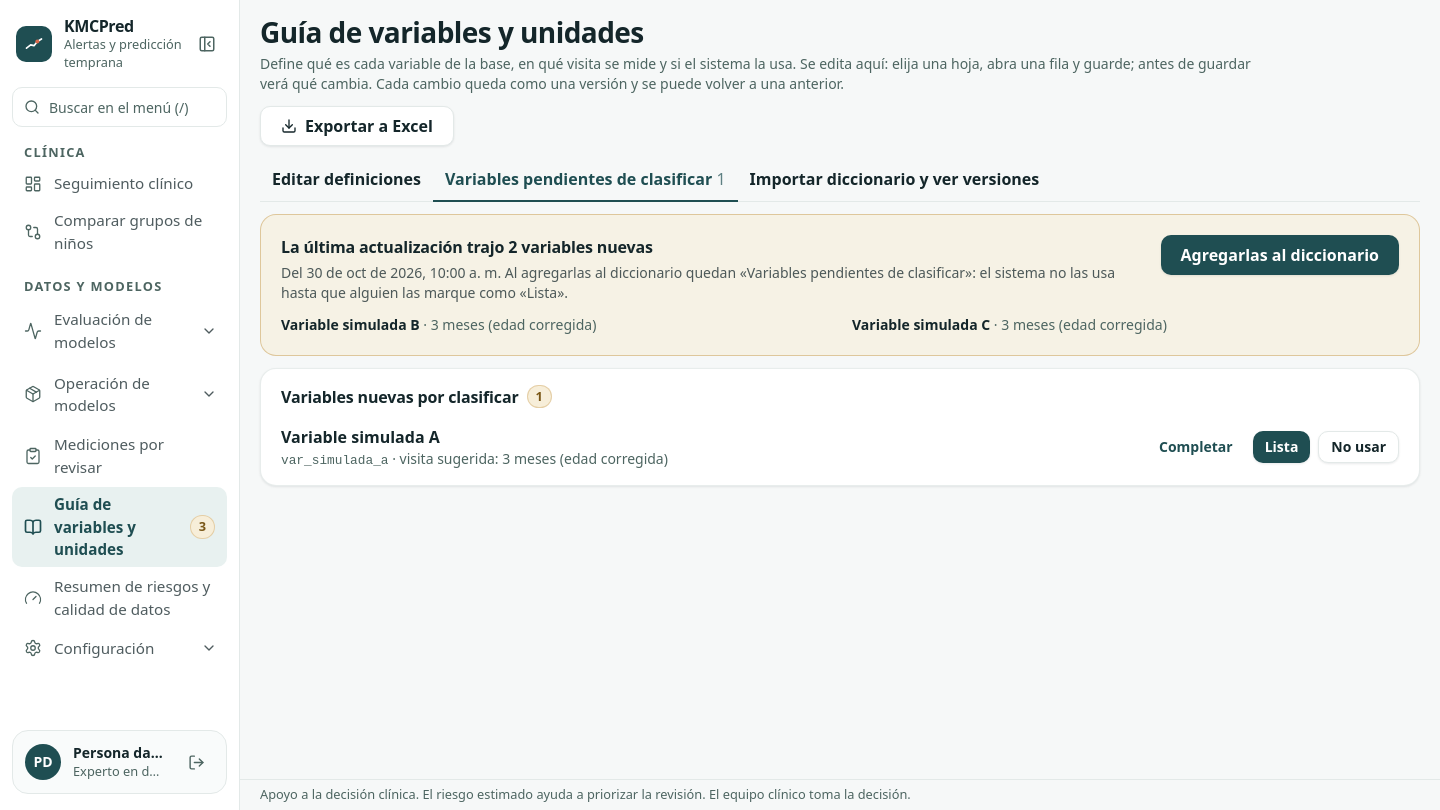
Scenario: diccionario de variables › la bandeja clasifica con un clic y el menú muestra cuántas faltan
Check: the text "Variable simulada A" is shown, box [281,426,440,448]
Check: the text "var_simulada_a · visita sugerida: 3 meses (edad corregida)" is shown, box [281,449,668,469]
Click the button with aria-label "Marcar var_simulada_a como Lista". click: click(1282, 447)
box: [1253,431,1310,463]
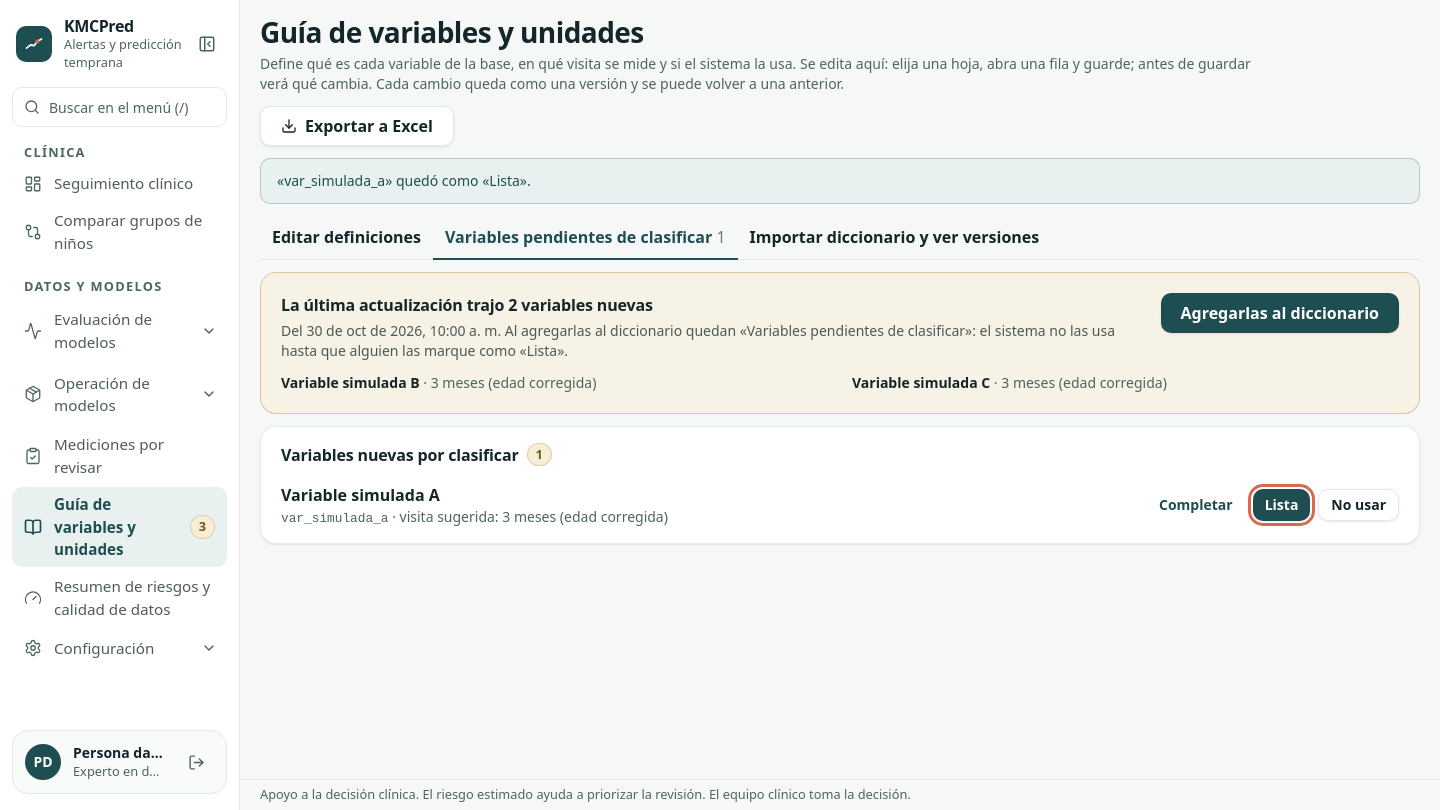
Check: the text "«var_simulada_a» quedó como «Lista»." is shown, box [260,158,1420,204]
